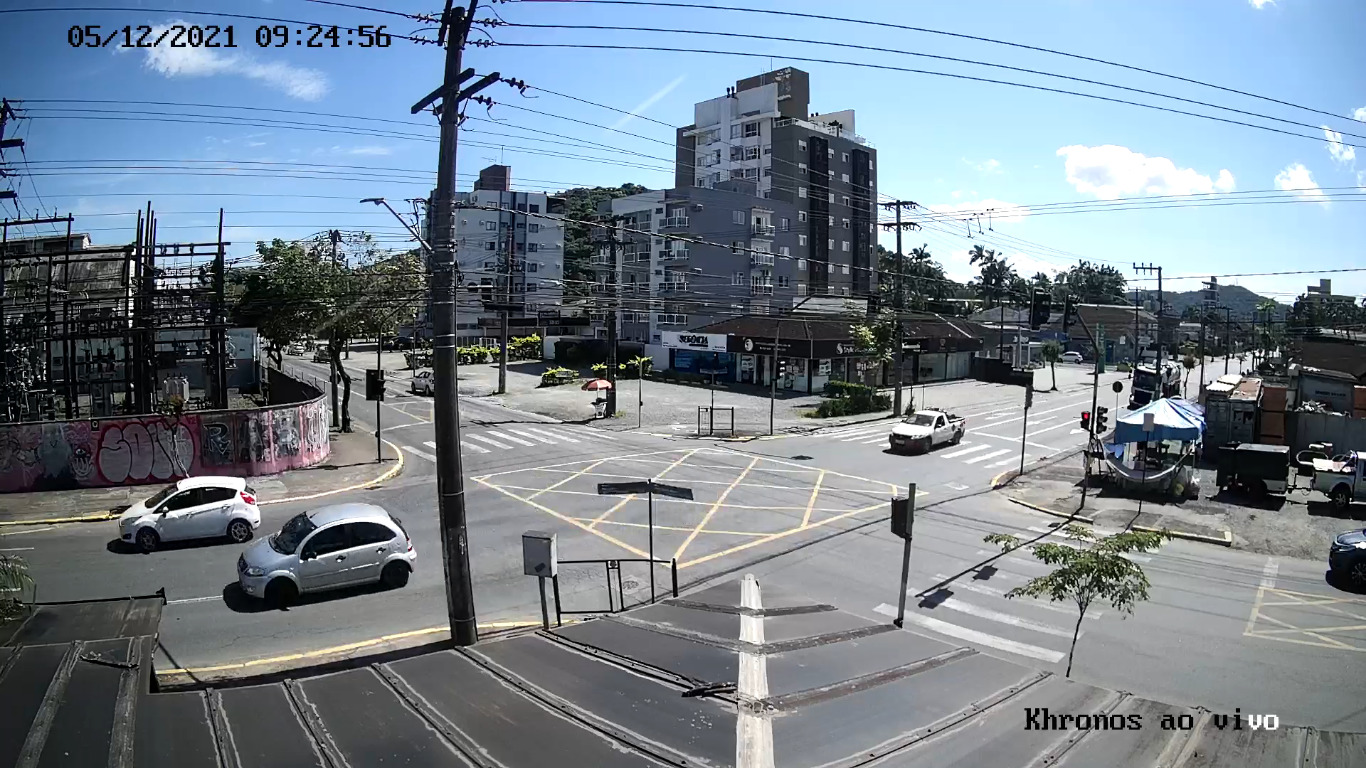car: (236, 504, 418, 607), (118, 475, 261, 552)
